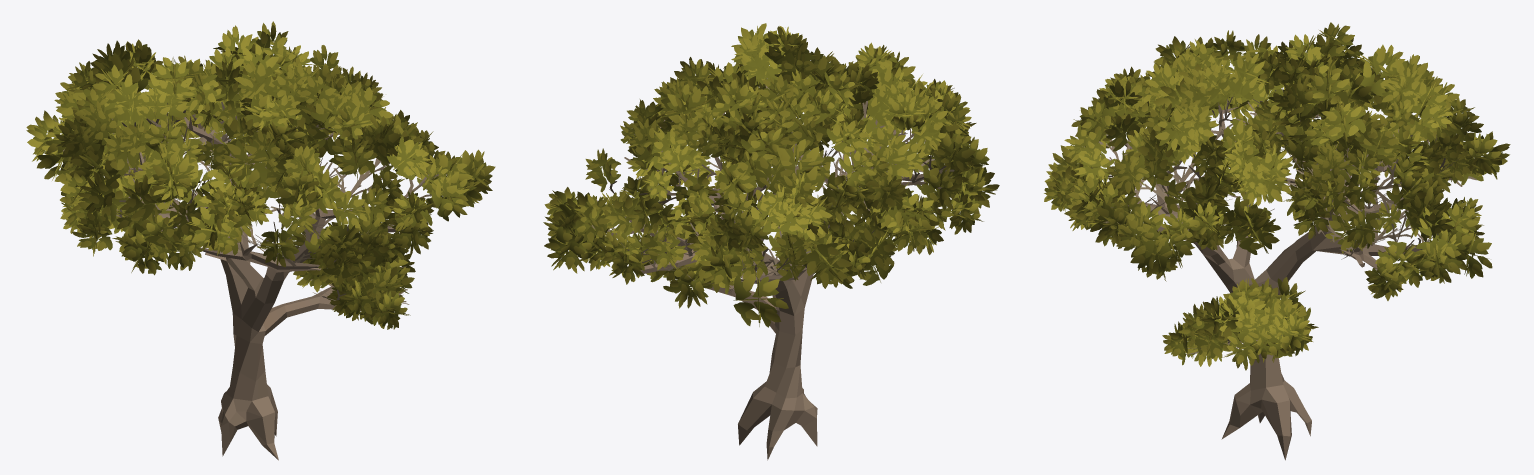
Rendered from tree_hero_broadleaf_01_mobile_gold.glb.
The picture shows the model from 3 angles, left to right: view 1: azimuth 30°, elevation 25°; view 2: azimuth 150°, elevation 25°; view 3: azimuth 270°, elevation 25°; orthographic projection. The views are drawn at different scales.
Visible parts, largest first — view 1: SM_Env_Tree_Meadow_02_LOD2, SM_Env_Tree_Meadow_02_Branches_LOD2; view 2: SM_Env_Tree_Meadow_02_LOD2, SM_Env_Tree_Meadow_02_Branches_LOD2; view 3: SM_Env_Tree_Meadow_02_LOD2, SM_Env_Tree_Meadow_02_Branches_LOD2.
Part boxes in pixels (x1,y1,x2,y2): SM_Env_Tree_Meadow_02_LOD2: (26,21,495,460); SM_Env_Tree_Meadow_02_Branches_LOD2: (52,93,438,304); SM_Env_Tree_Meadow_02_LOD2: (543,23,999,460); SM_Env_Tree_Meadow_02_Branches_LOD2: (591,78,954,291); SM_Env_Tree_Meadow_02_LOD2: (1044,22,1510,460); SM_Env_Tree_Meadow_02_Branches_LOD2: (1091,88,1476,354).
Bounding box in the file's own units: 9.28 × 9.4 × 10.38.
3 materials, 3 textured.
